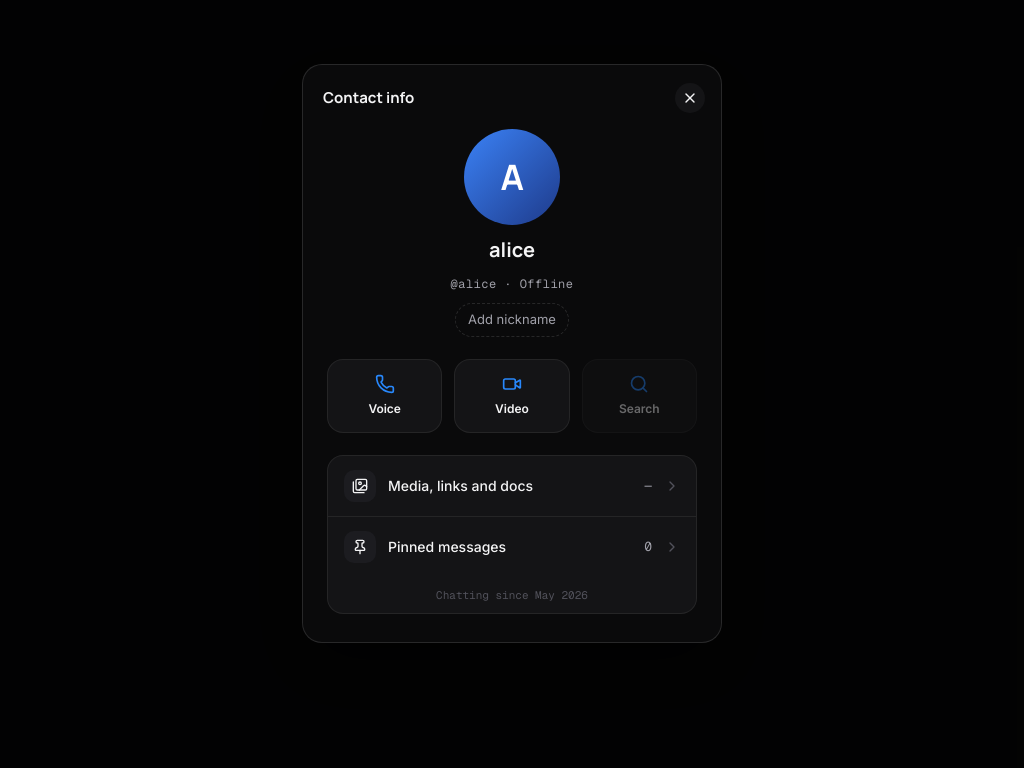
Test: ContactInfoModal — editing › clicking 'Add nickname' opens an inline editor with Save disabled until text is entered
Click the button "Add nickname".
click(512, 320)  # box [455,303,569,336]
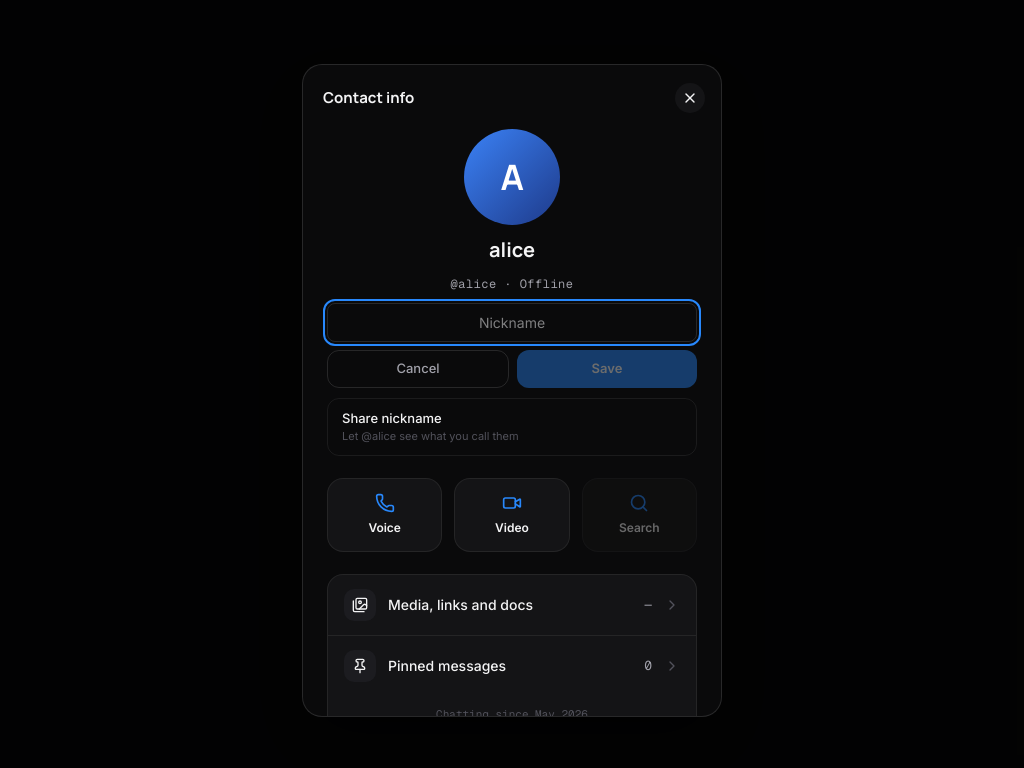
Check: the field with placeholder "Nickname" is shown
Check: the button "Save" is disabled, box [517,350,697,388]
Type "Bug" into the field with placeholder "Nickname".
click(512, 322); type("Bug")  # box [327,303,697,342]
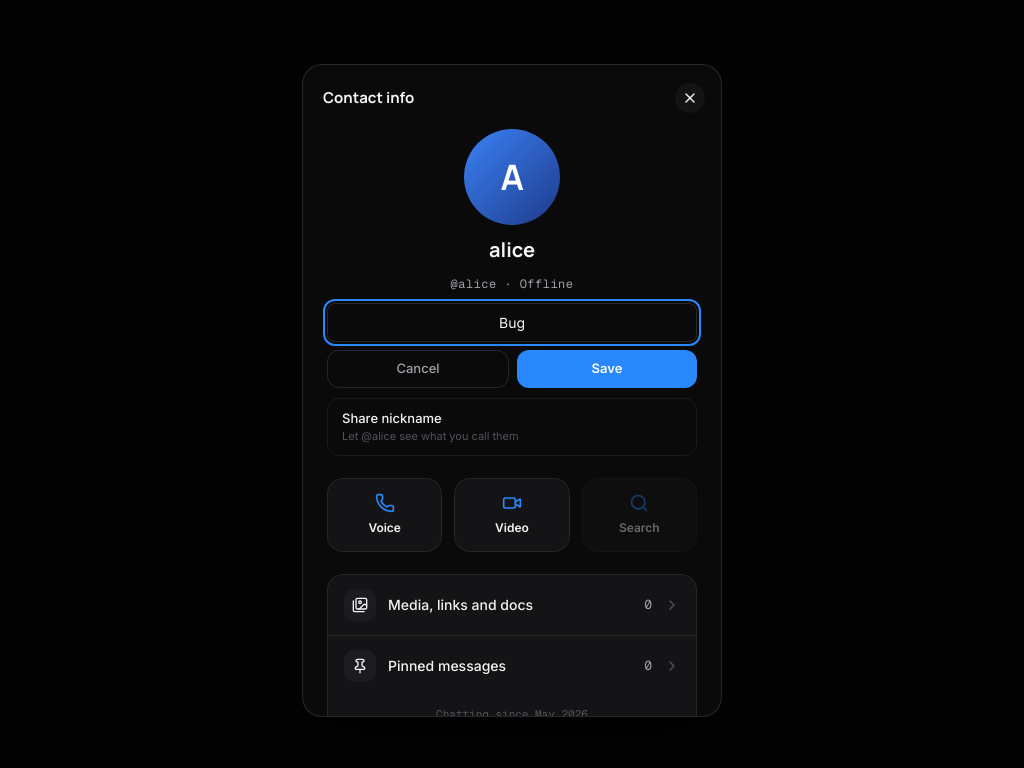
Check: the button "Save" is enabled, box [517,350,697,388]
